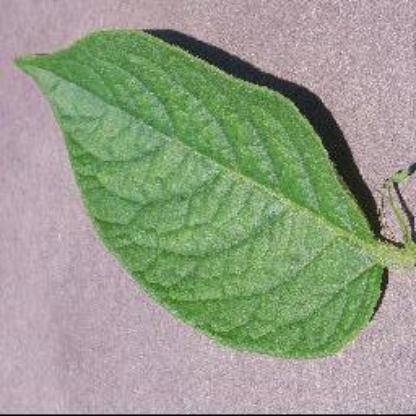Healthy-plant: (15, 26, 389, 364)
